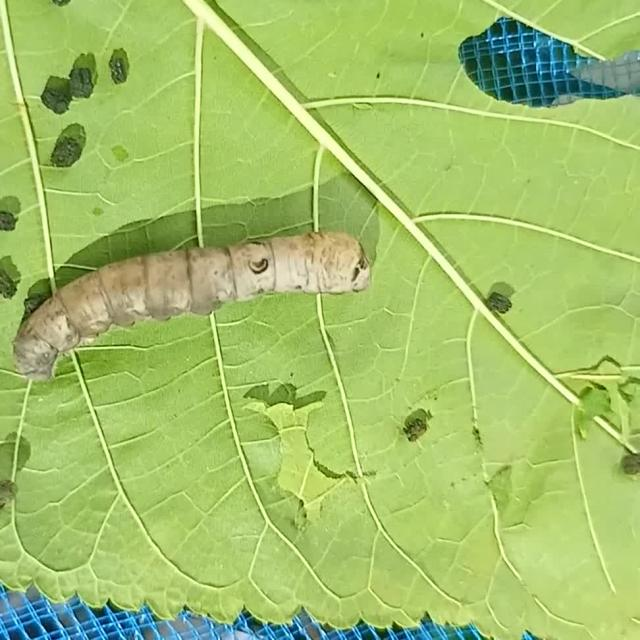Grasserie: (11, 212, 383, 395)
